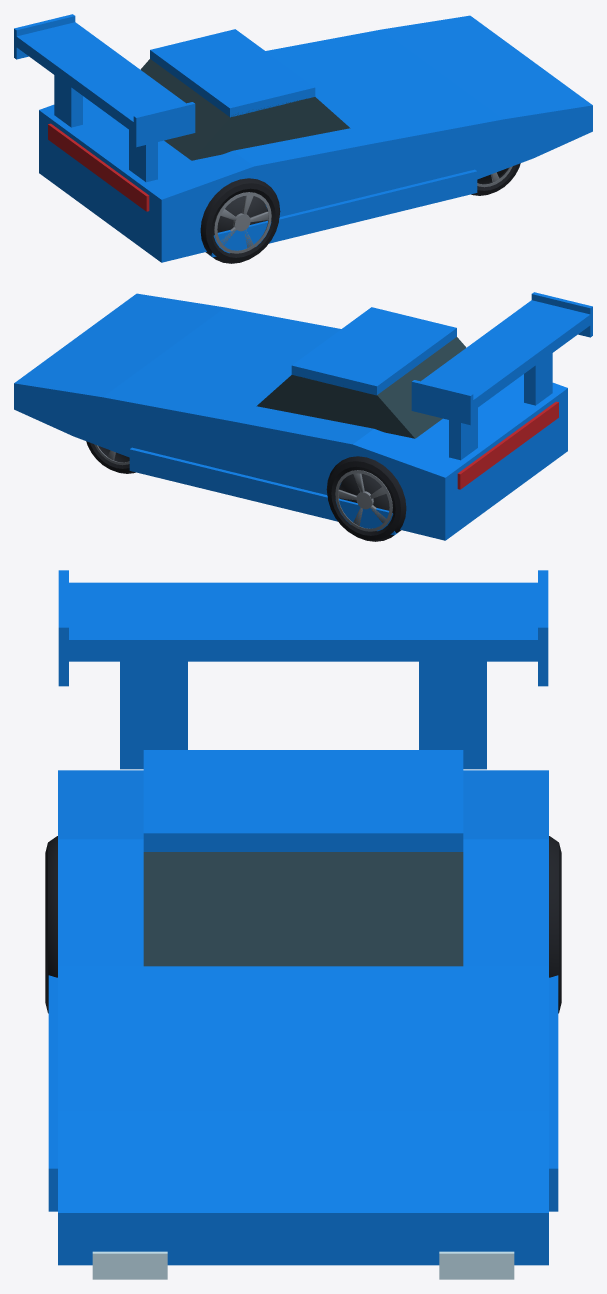
3 views of the same model, one above another, from view 1: azimuth 30°, elevation 25°; view 2: azimuth 150°, elevation 25°; view 3: azimuth 270°, elevation 25° (orthographic). The views are drawn at different scales.
Visible parts, largest first — view 1: octane-car-body, wheel-rear-right, wheel-front-right; view 2: octane-car-body, wheel-rear-left, wheel-front-left; view 3: octane-car-body, wheel-rear-right, wheel-rear-left.
Boxes of the visible parts, x1=… form: octane-car-body: x1=14, y1=14, x2=592, y2=262; wheel-rear-right: x1=200, y1=178, x2=280, y2=263; wheel-front-right: x1=471, y1=163, x2=520, y2=195; octane-car-body: x1=14, y1=292, x2=592, y2=540; wheel-rear-left: x1=326, y1=456, x2=406, y2=541; wheel-front-left: x1=86, y1=441, x2=135, y2=473; octane-car-body: x1=48, y1=570, x2=558, y2=1279; wheel-rear-right: x1=45, y1=836, x2=57, y2=1013; wheel-rear-left: x1=549, y1=836, x2=561, y2=1013.
Bounding box in the file's own units: 1.56 × 0.551 × 0.76.
